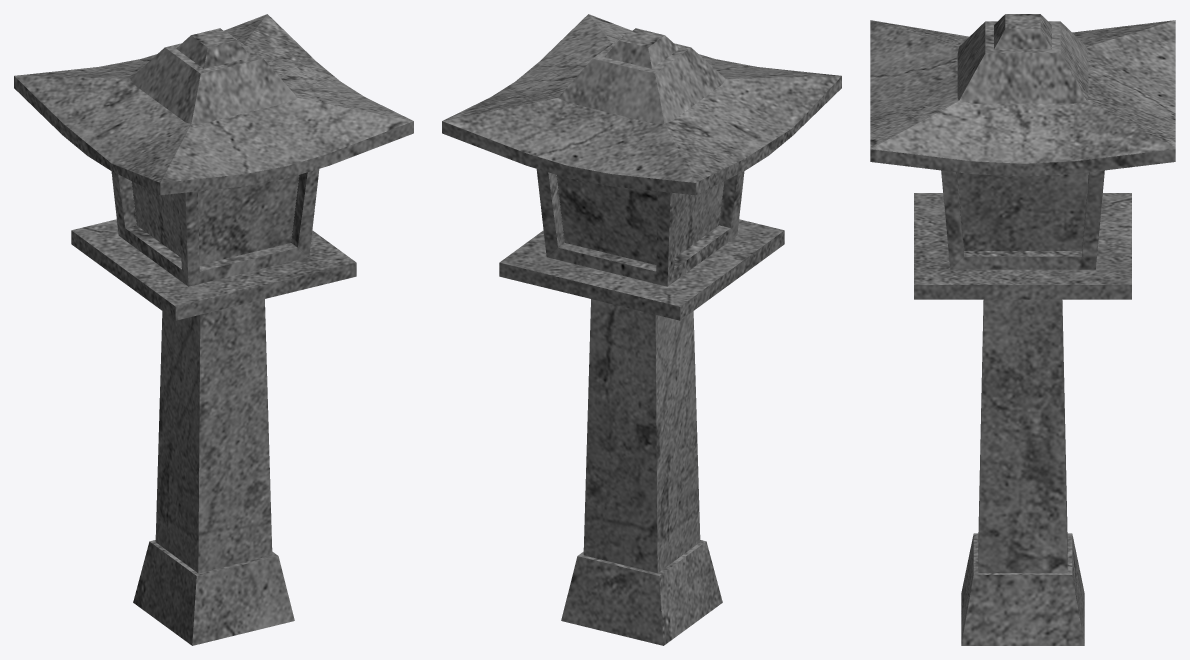
Rendered from lanternB.fbx.
3 views of the same model, side by side, from view 1: azimuth 30°, elevation 25°; view 2: azimuth 150°, elevation 25°; view 3: azimuth 270°, elevation 25° (orthographic). The views are drawn at different scales.
Visible parts, largest first — view 1: Cube.001; view 2: Cube.001; view 3: Cube.001.
Part boxes in pixels (x1,y1,x2,y2): Cube.001: (14, 14, 413, 645); Cube.001: (442, 14, 841, 645); Cube.001: (870, 14, 1175, 645).
Bounding box in the file's own units: 83.31 × 180 × 83.31.
1 material, 1 textured.
